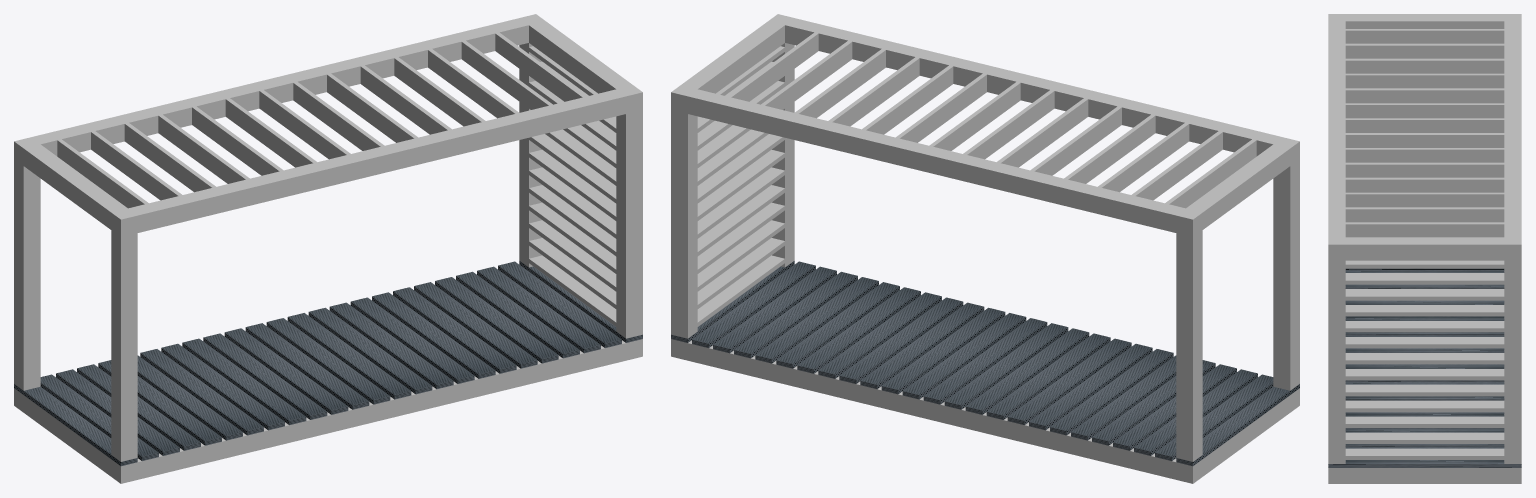
The model's file is TarraceAll.fbx.
The picture shows the model from 3 angles, left to right: view 1: azimuth 30°, elevation 25°; view 2: azimuth 150°, elevation 25°; view 3: azimuth 270°, elevation 25°; orthographic projection. The views are drawn at different scales.
Visible parts, largest first — view 1: Terrace_H, Terrace_Roof_H, Terrace_Wall_H, Terrace_Suport_H, Terrace_Suport_H.001; view 2: Terrace_H, Terrace_Roof_H, Terrace_Wall_H, Terrace_Suport_H.001, Terrace_Suport_H; view 3: Terrace_Roof_H, Terrace_Wall_H, Terrace_H.
Boxes of the visible parts, <box> form: Terrace_H: <box>14,261,642,483</box>; Terrace_Roof_H: <box>14,14,642,236</box>; Terrace_Wall_H: <box>519,43,642,338</box>; Terrace_Suport_H: <box>111,230,137,461</box>; Terrace_Suport_H.001: <box>14,159,40,390</box>; Terrace_H: <box>671,261,1299,483</box>; Terrace_Roof_H: <box>671,14,1299,236</box>; Terrace_Wall_H: <box>671,43,794,338</box>; Terrace_Suport_H.001: <box>1176,230,1202,461</box>; Terrace_Suport_H: <box>1273,159,1299,390</box>; Terrace_Roof_H: <box>1328,14,1521,260</box>; Terrace_Wall_H: <box>1328,260,1521,463</box>; Terrace_H: <box>1328,268,1521,483</box>.
Size of the model in its own units: 620 by 300 by 220.
